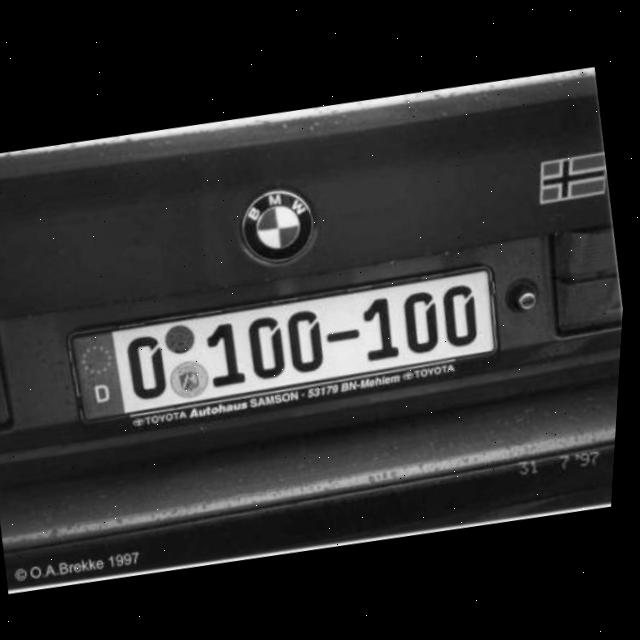license-plates: (69, 268, 496, 422)
